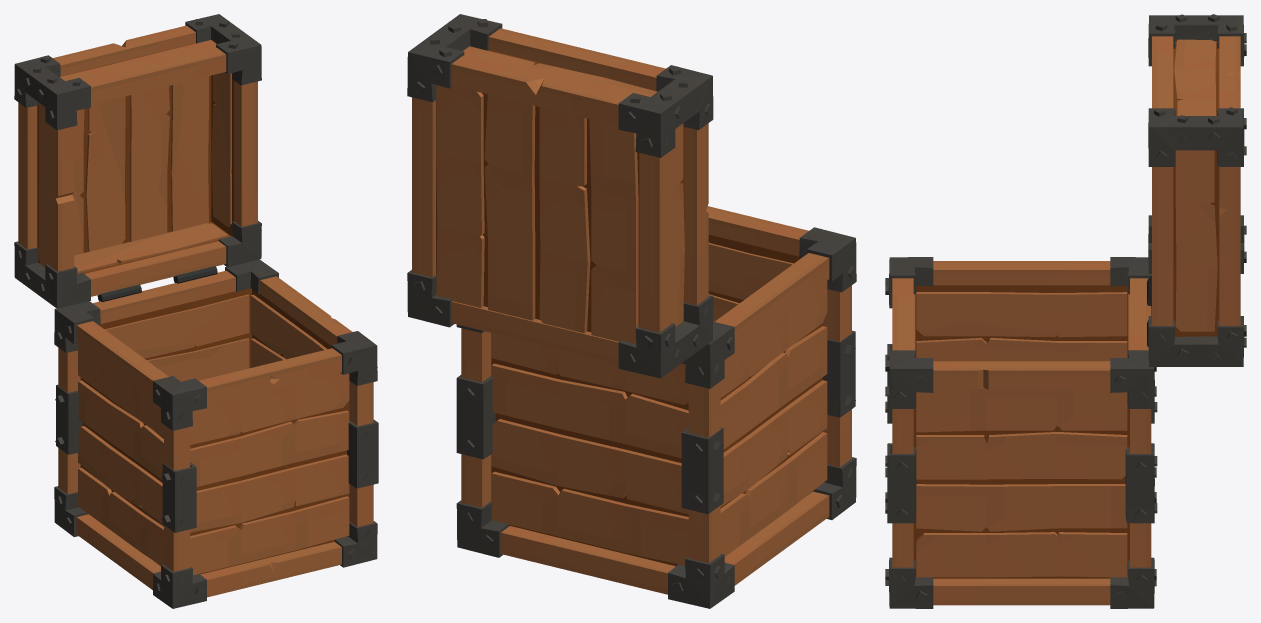
Rendered from caja.fbx.
3 views of the same model, side by side, from view 1: azimuth 30°, elevation 25°; view 2: azimuth 150°, elevation 25°; view 3: azimuth 270°, elevation 25° (orthographic). The views are drawn at different scales.
Visible parts, largest first — view 1: Cube; view 2: Cube; view 3: Cube.
Boxes of the visible parts, <box> form: Cube: <box>14,14,378,608</box>; Cube: <box>407,14,856,608</box>; Cube: <box>885,14,1246,608</box>.
Bounding box in the file's own units: 152 × 300 × 202.
Materials: 1 (1 with a texture image).
